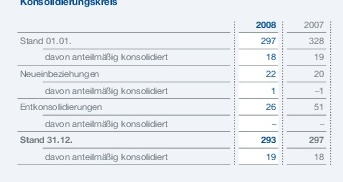table: (0, 0, 343, 182)
